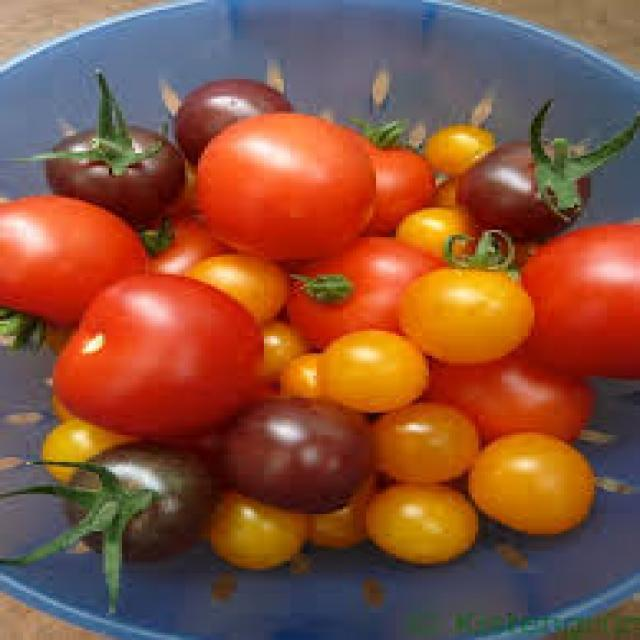organic waste: (0, 435, 211, 615), (43, 267, 257, 440), (191, 109, 373, 257), (10, 64, 181, 215), (0, 193, 152, 351), (455, 101, 637, 228), (518, 220, 637, 376), (287, 237, 452, 344), (399, 230, 531, 358), (215, 393, 366, 504), (422, 353, 594, 442), (465, 427, 594, 529), (310, 324, 419, 410), (360, 479, 475, 558), (172, 74, 287, 153), (366, 400, 482, 477), (363, 123, 432, 234), (204, 487, 304, 561), (181, 252, 284, 319), (40, 416, 135, 480), (135, 215, 231, 277), (389, 205, 478, 260), (248, 316, 310, 383), (300, 479, 363, 544), (155, 153, 198, 215), (422, 124, 485, 166), (270, 346, 316, 400), (46, 390, 86, 422), (429, 176, 458, 205)
